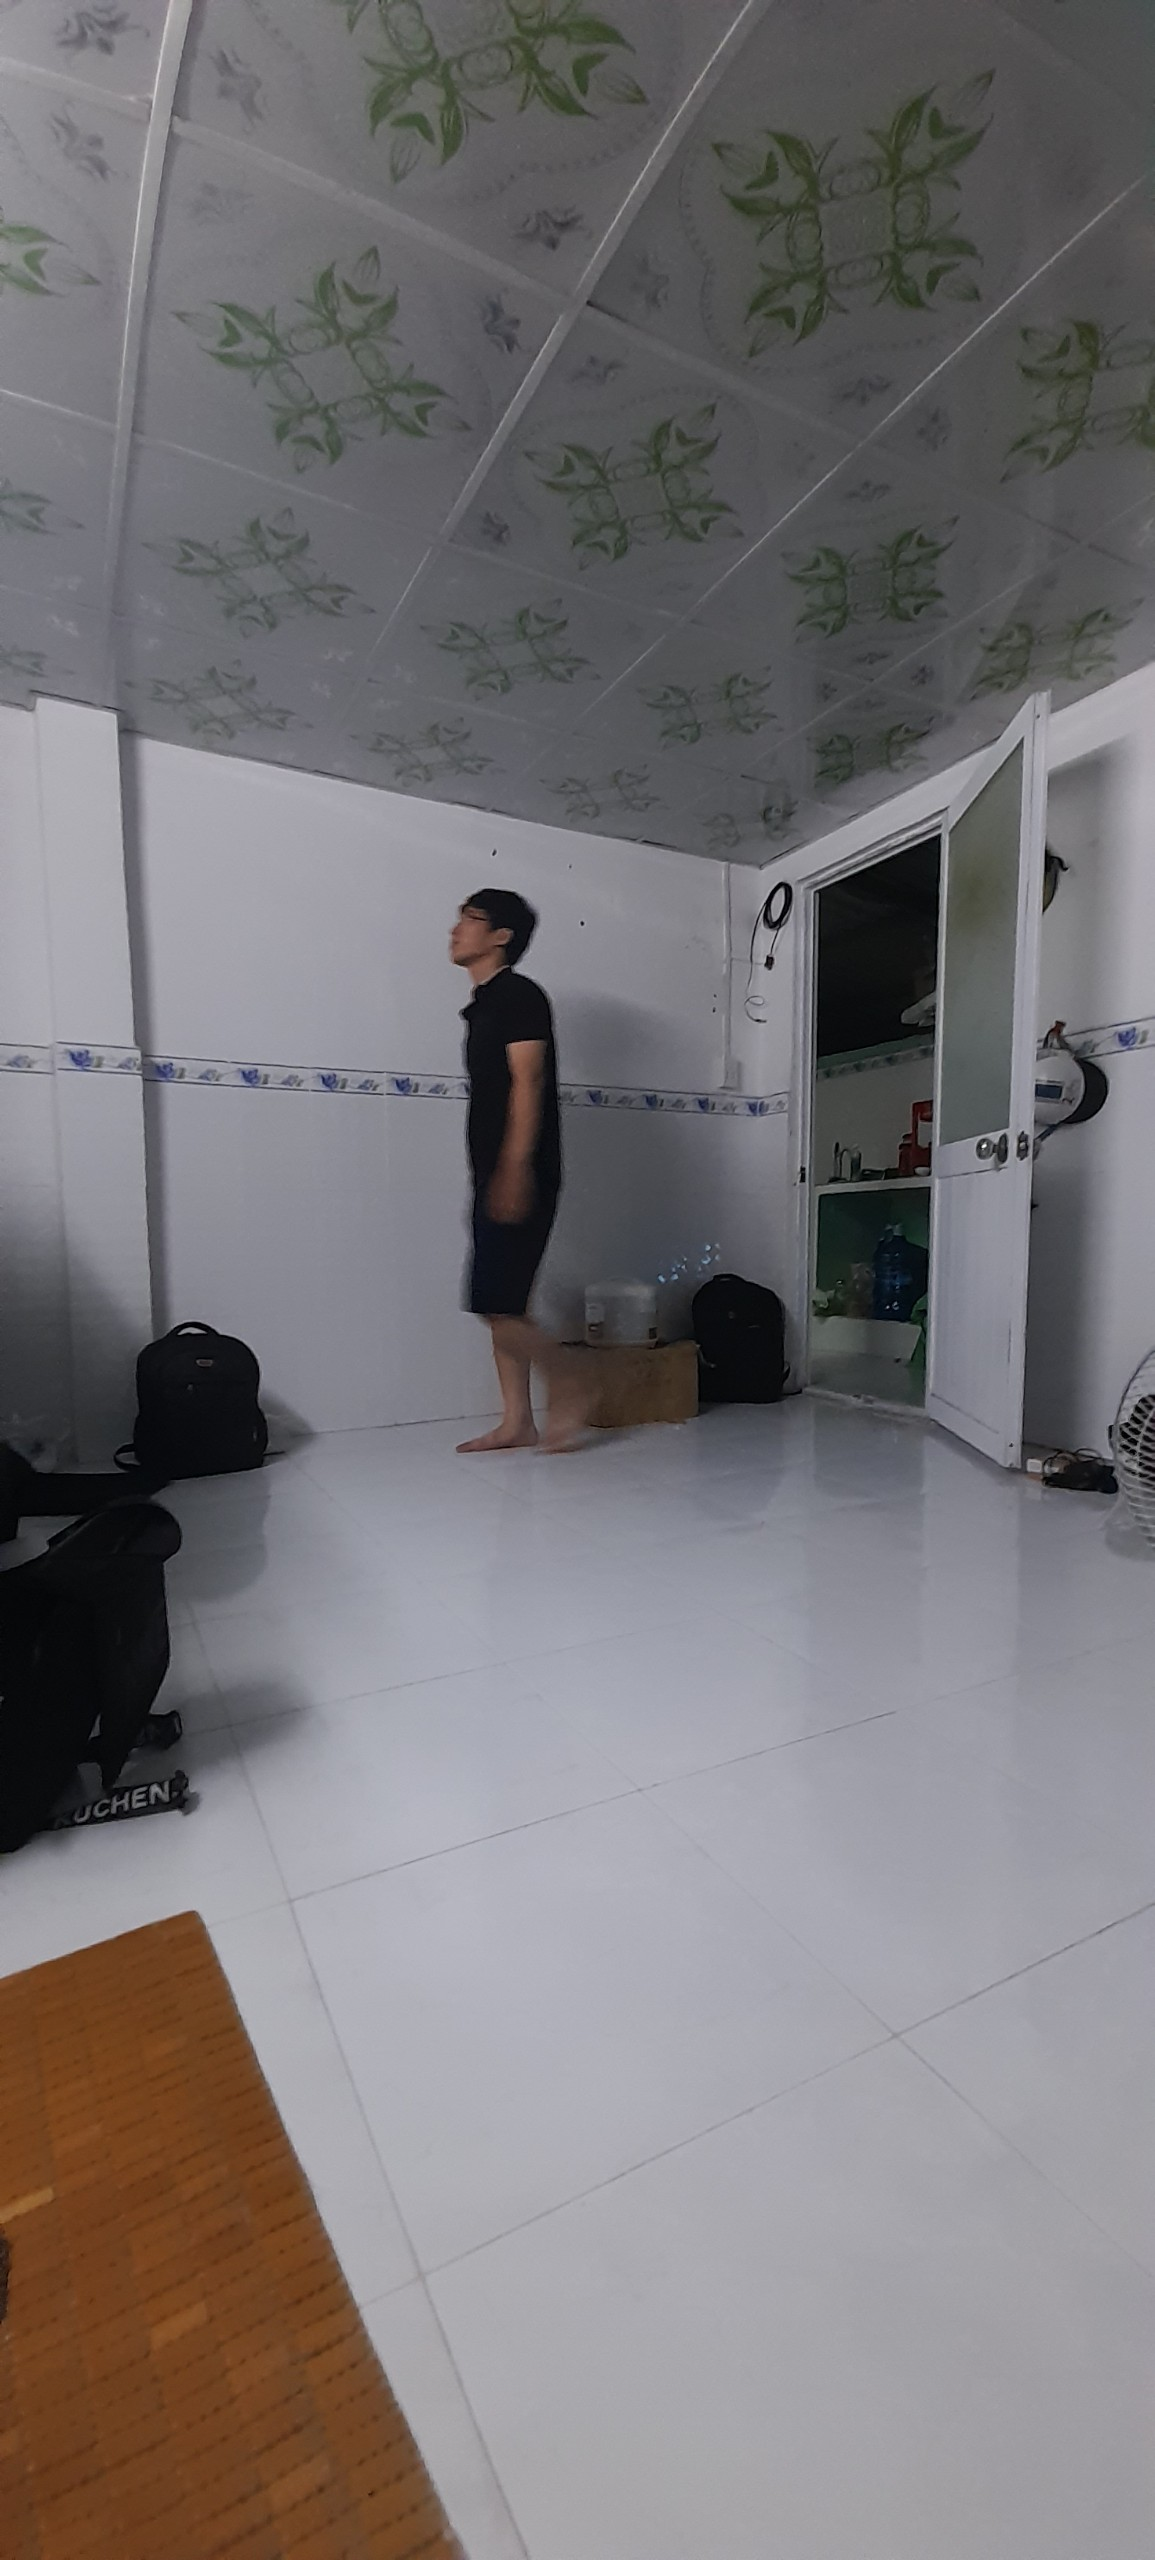person: (446, 887, 589, 1457)
